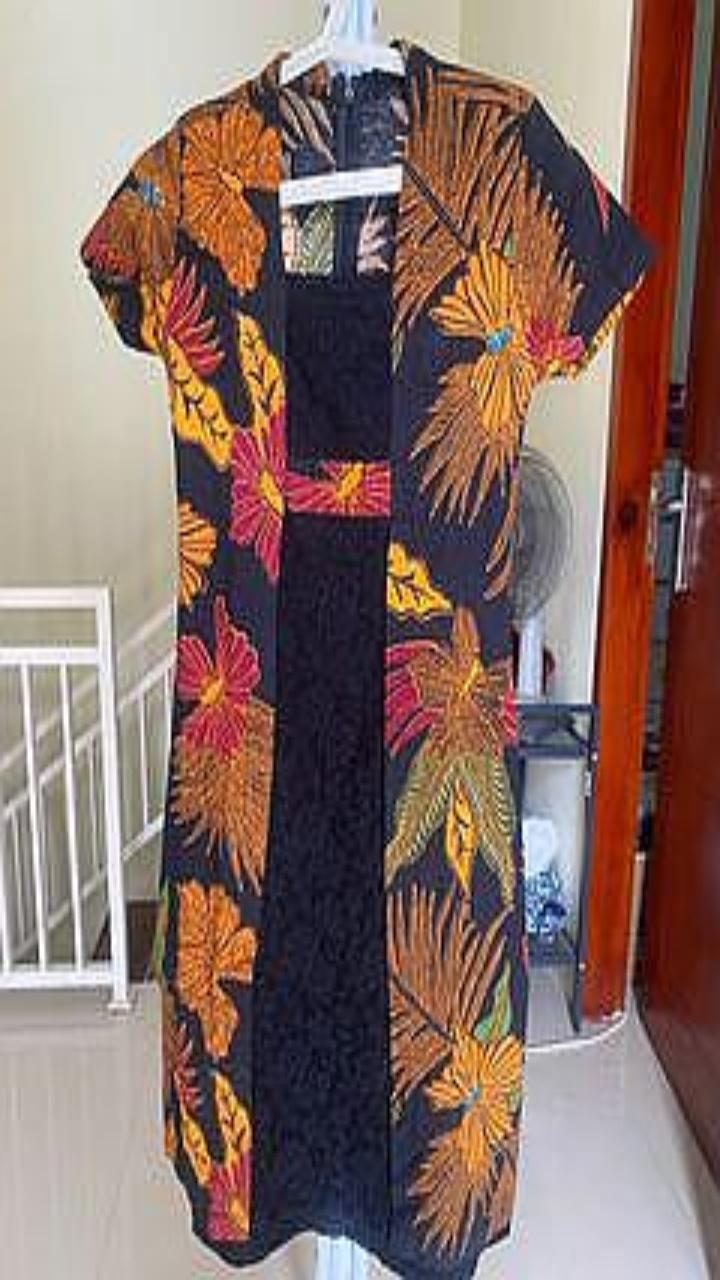Dresses: (82, 42, 648, 1279)
